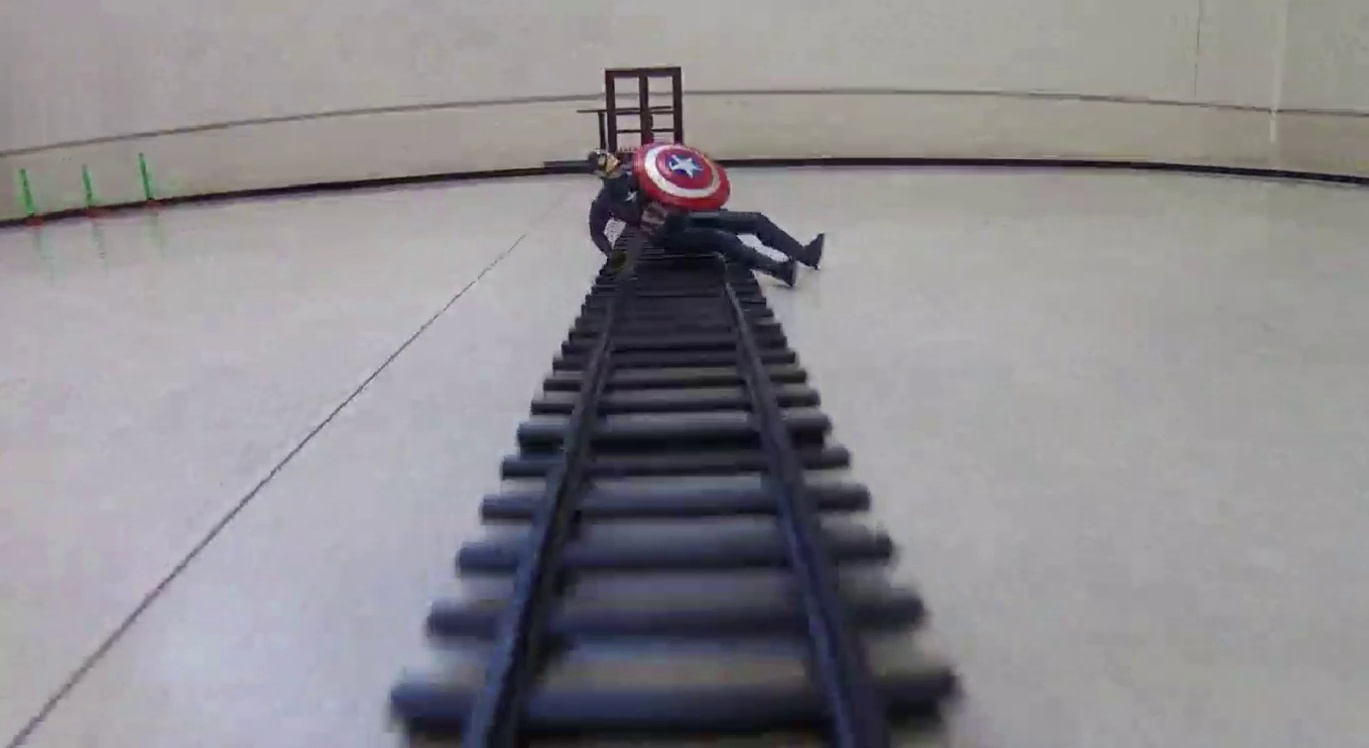people: (590, 142, 823, 288)
